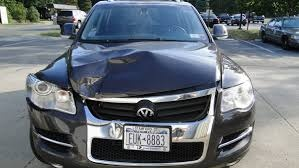Broken-glass: (25, 75, 76, 118)
Dent: (71, 49, 158, 100)
